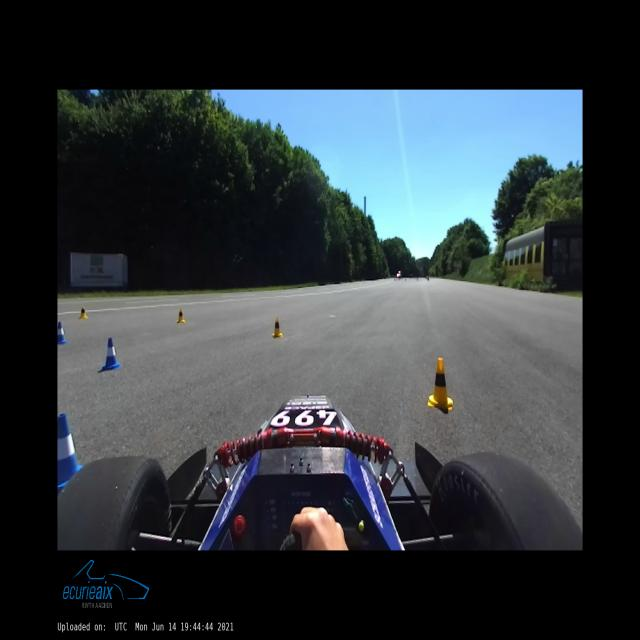blue_cone: (58, 412, 84, 488), (102, 337, 120, 371), (58, 322, 67, 344)
yellow_cone: (428, 358, 453, 410), (272, 318, 283, 338), (177, 308, 186, 322), (80, 306, 88, 318)
